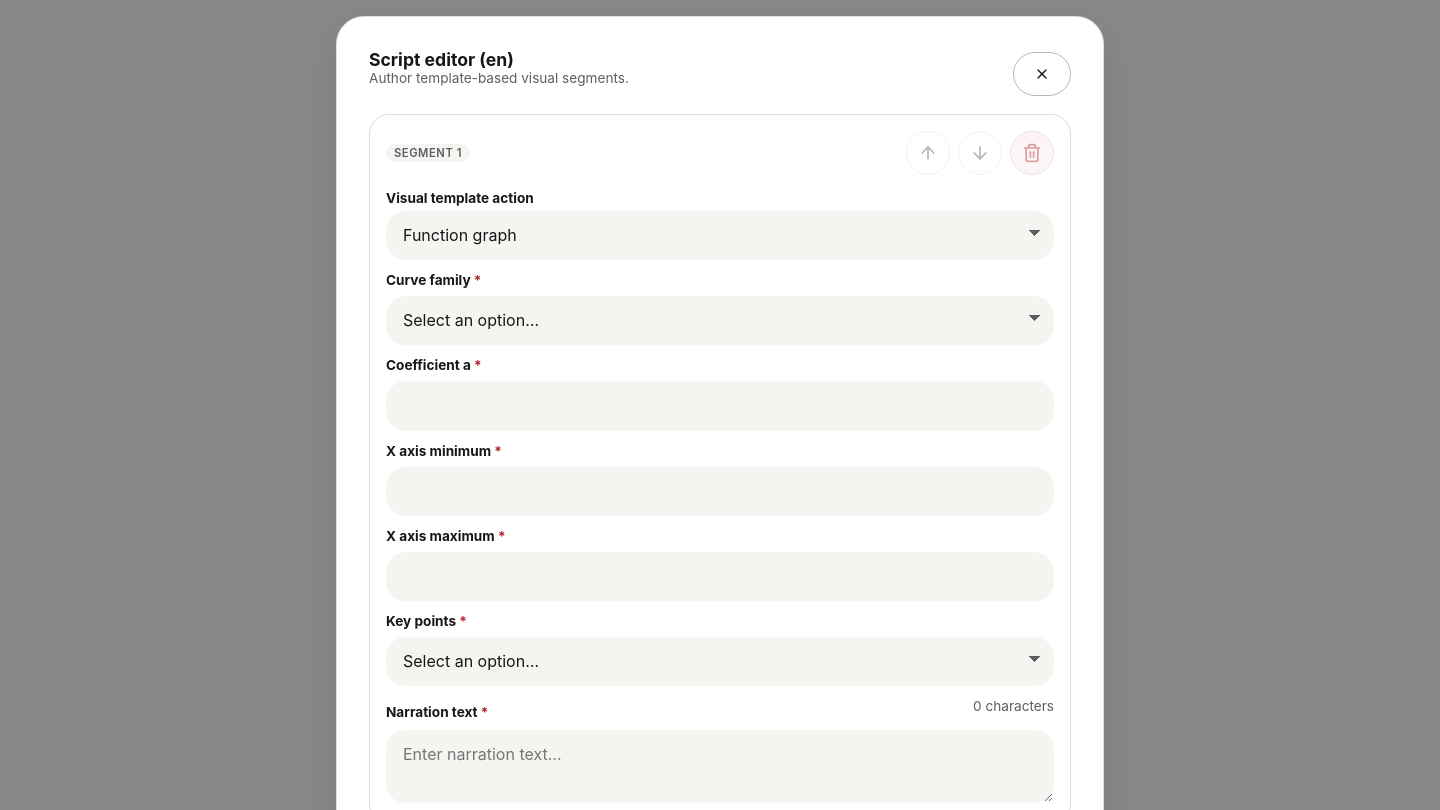
ScriptEditor › maps scope violations onto their row and keeps other segment violations at segment level
Check: the text "Segment 1" is shown, box [386,144,470,162]
Select "Number line union" in the dropdown labelled "Visual template action". click: (720, 236)
box: [386,211,1054,260]
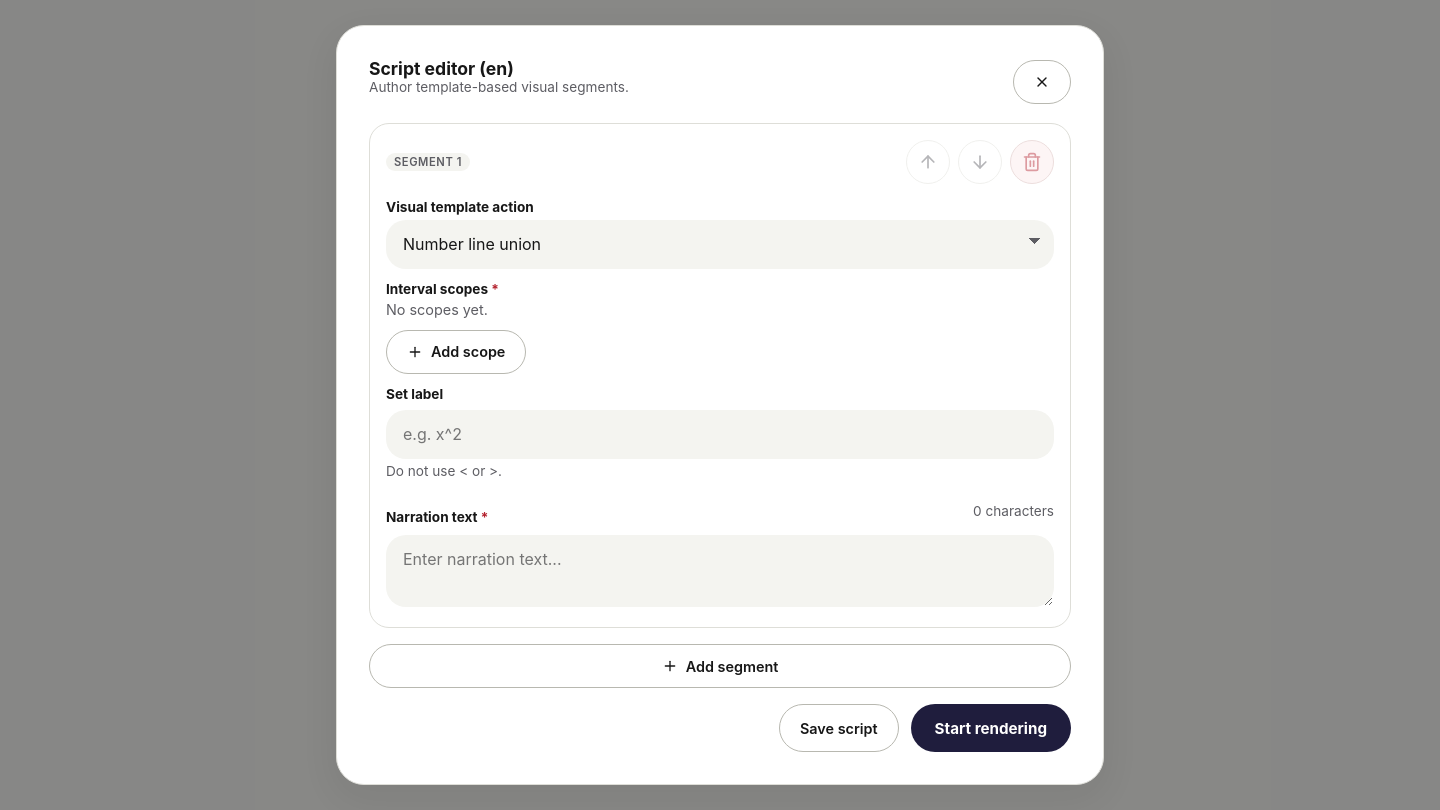
Click the button "Add scope". click: (456, 352)
box: [386,330,526,374]
(page scrolled)
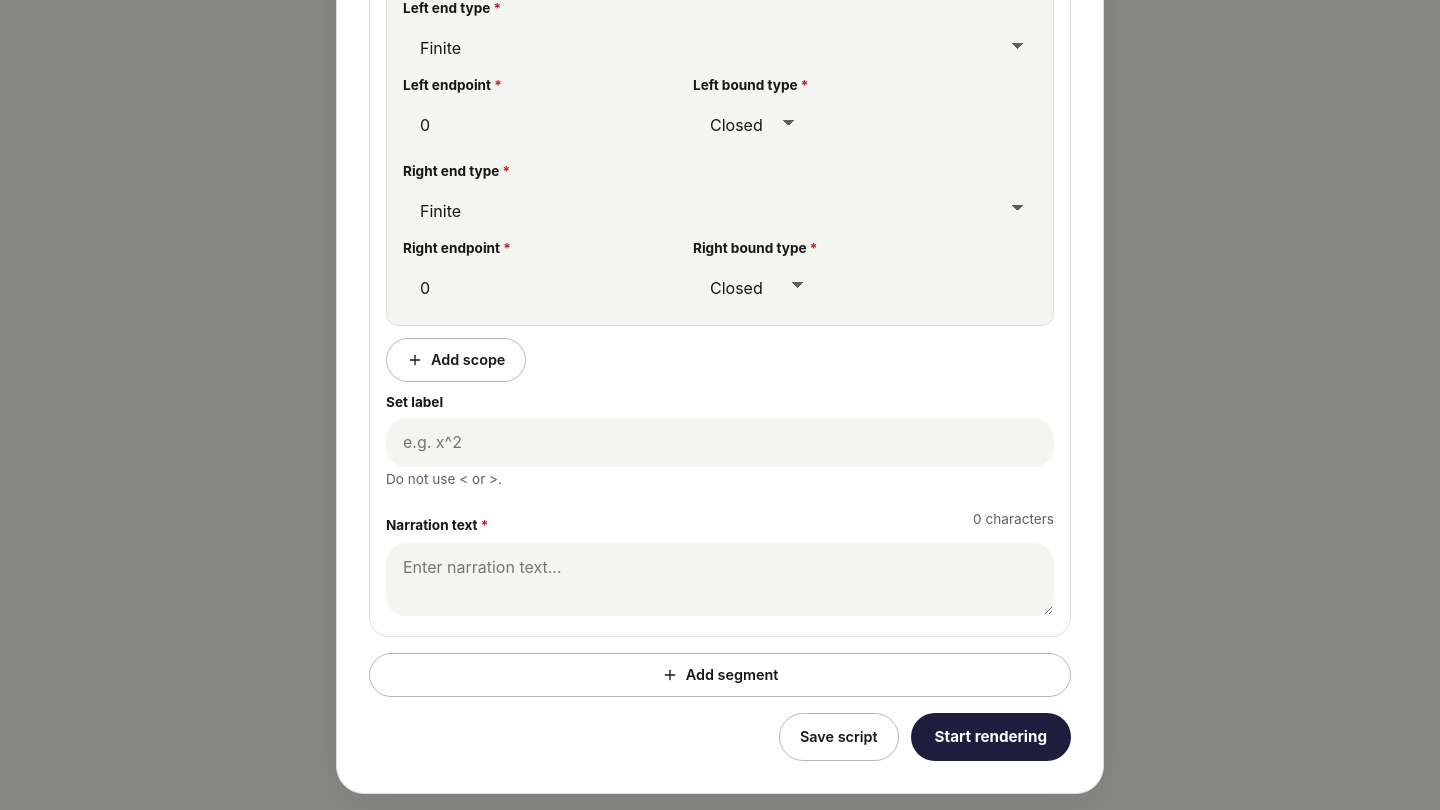
Click the button "Save script". click: (839, 736)
box: [779,712,899,760]
(page scrolled)
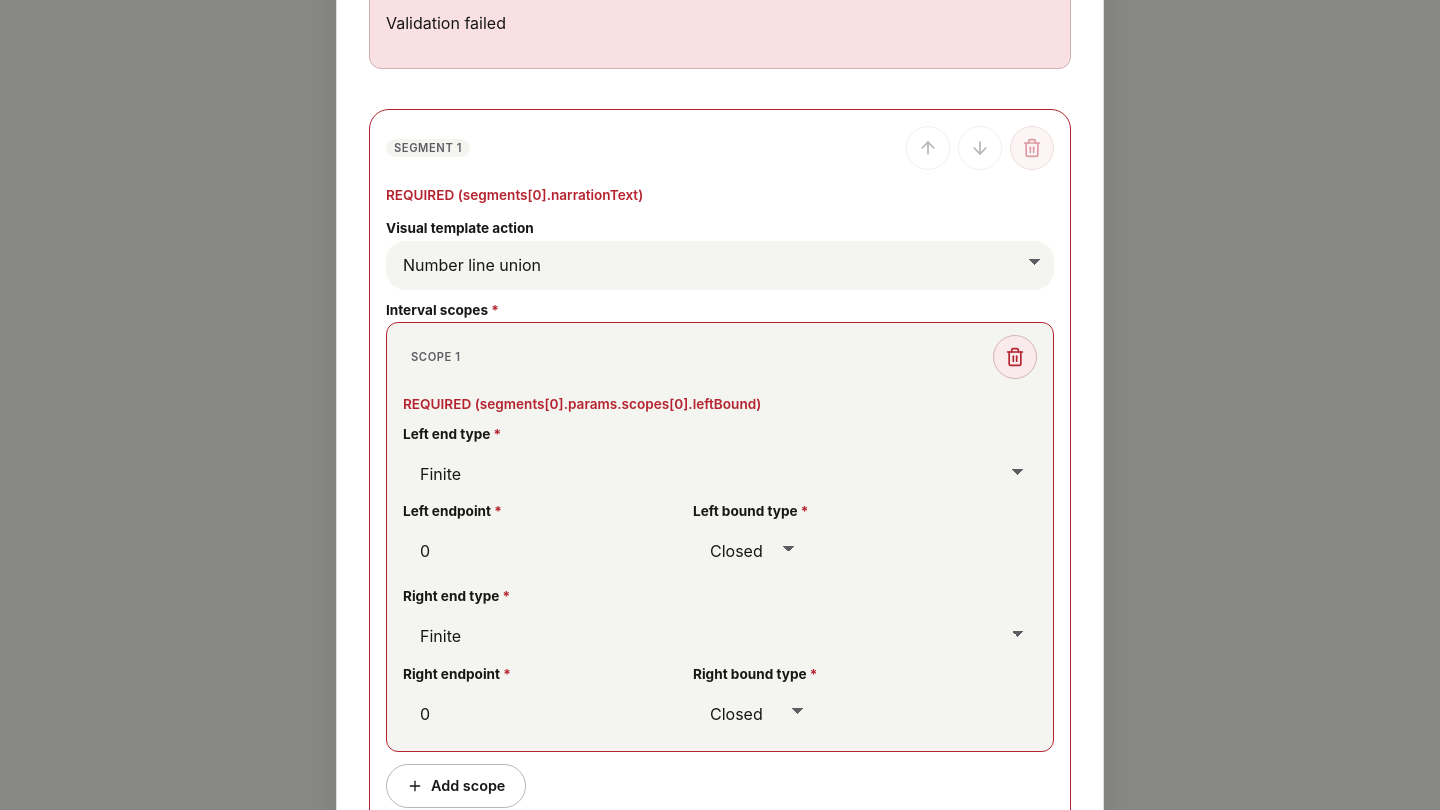
Check: the text "Scope 1" is shown, box [411,350,461,364]
Check: the text "REQUIRED (segments[0].narrationText)" is shown once, box [386,187,643,203]
Check: the text "REQUIRED (segments[0].params.scopes[0].leftBound)" is shown once, box [403,396,761,412]
